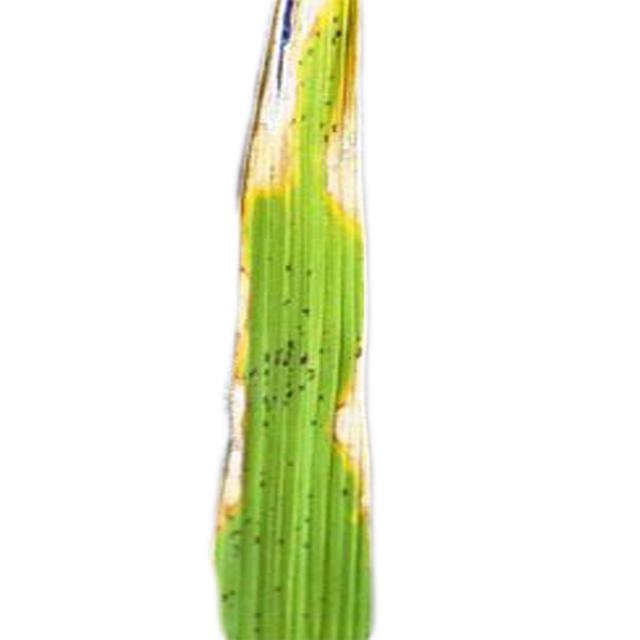Leaf scald: (192, 0, 489, 640)
